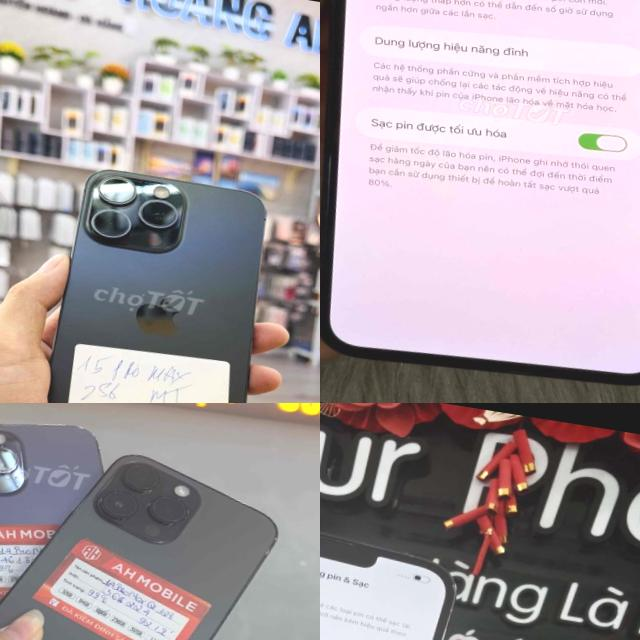gen_11: (320, 0, 640, 403)
gen_12_13: (320, 497, 467, 640)
gen_14: (0, 455, 277, 640), (0, 436, 92, 640)
gen_15: (20, 128, 298, 403)
